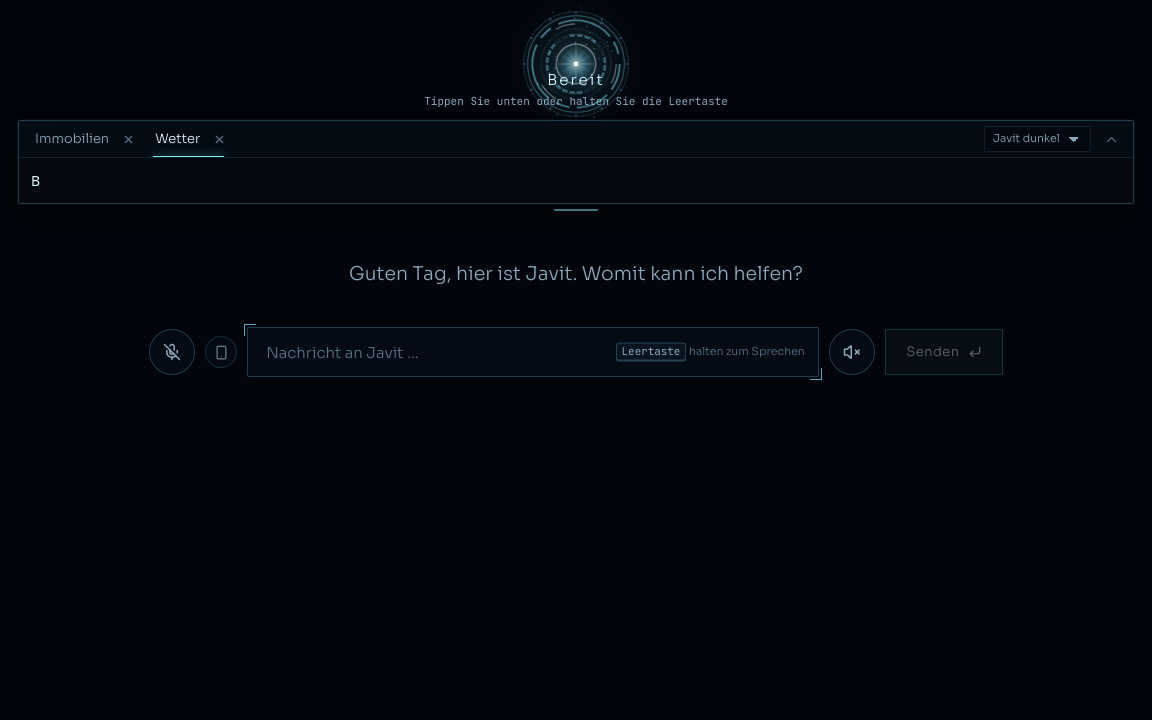
Test case: Bühne in der Konsole › Schließen entfernt die Fläche und meldet es dem Kern
What coordinates should you click on to do the following:
click the button named "Fläche „Wetter“ schließen"
I would click on:
 (218, 139)
Its box is [206,127,230,151].
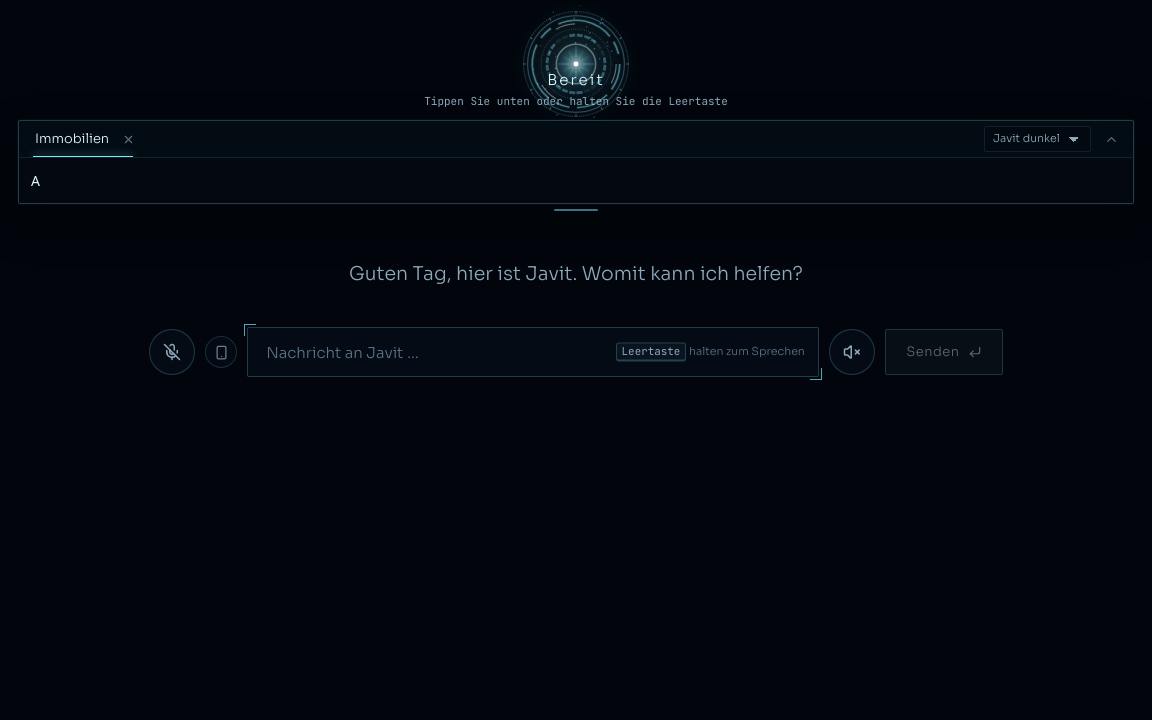
Result: the tab "Wetter" is gone
What coordinates should you click on to do the following:
click the button named "Fläche „Immobilien“ schließen"
I would click on:
 (127, 139)
Its box is [115,127,139,151].
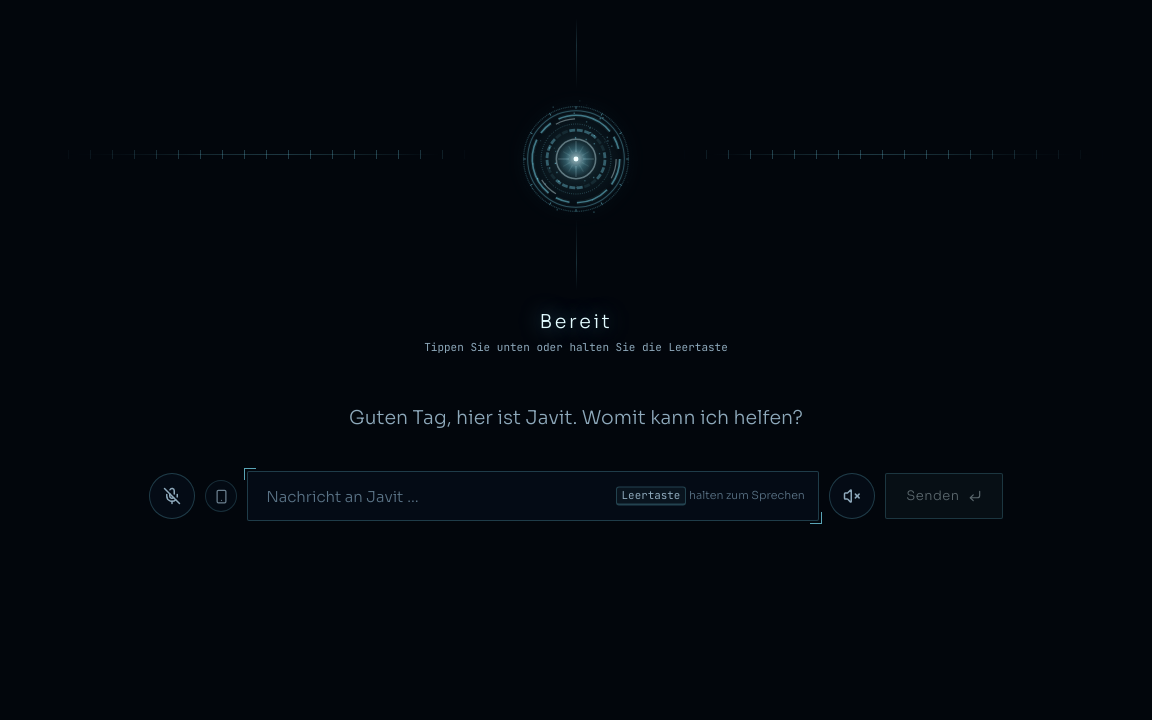
Result: the button "Bühne" is gone
